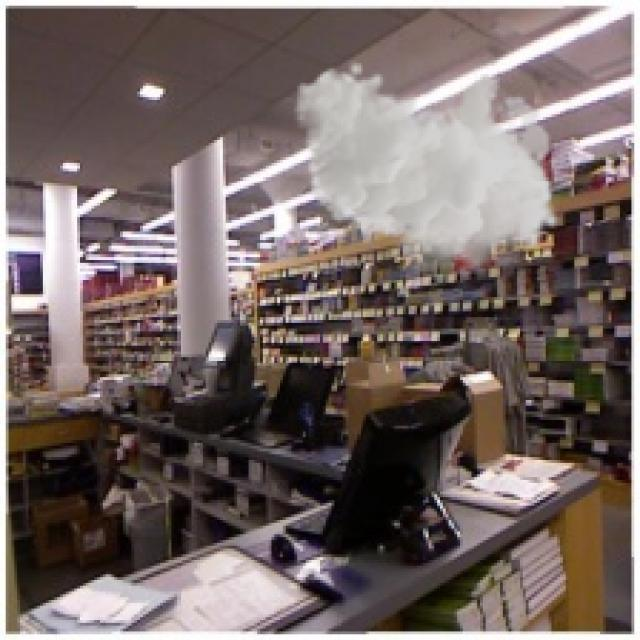Smoke: (294, 60, 560, 280)
